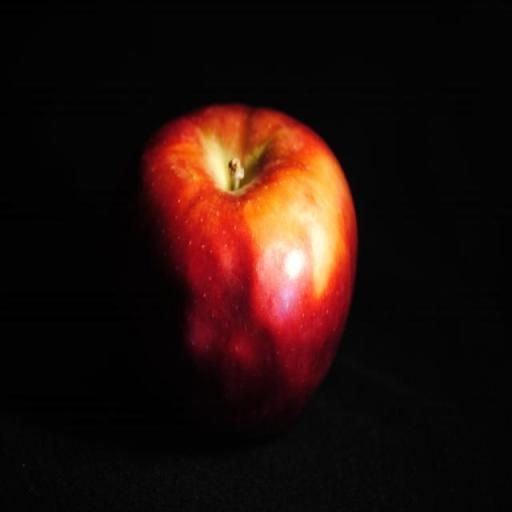fruit: (140, 105, 355, 431)
